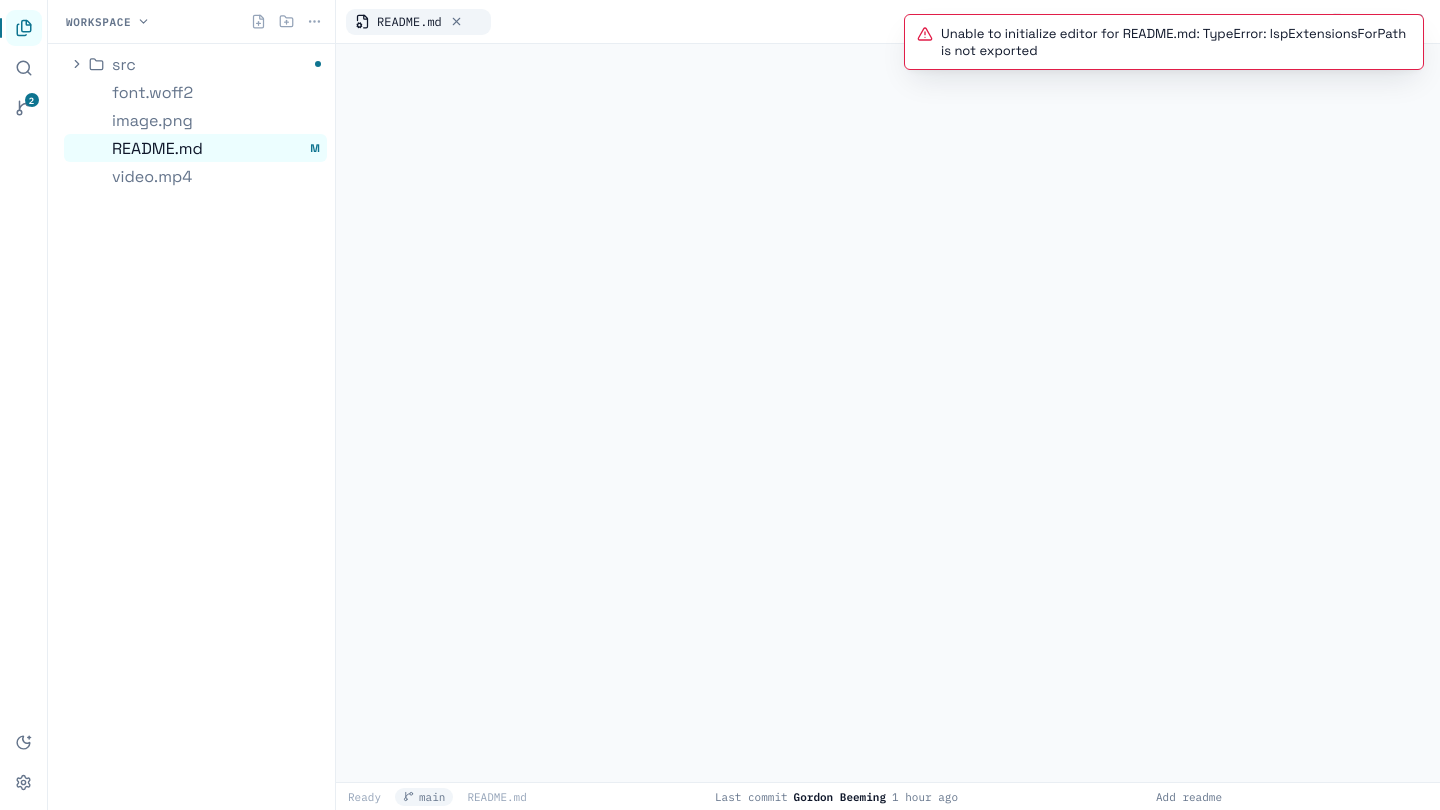
Test case: App shell interactions › falls back to a monogram avatar when the commit has no author email
Click the text "Last commit" at (751, 796), box x1=715 y1=790 x2=788 y2=804
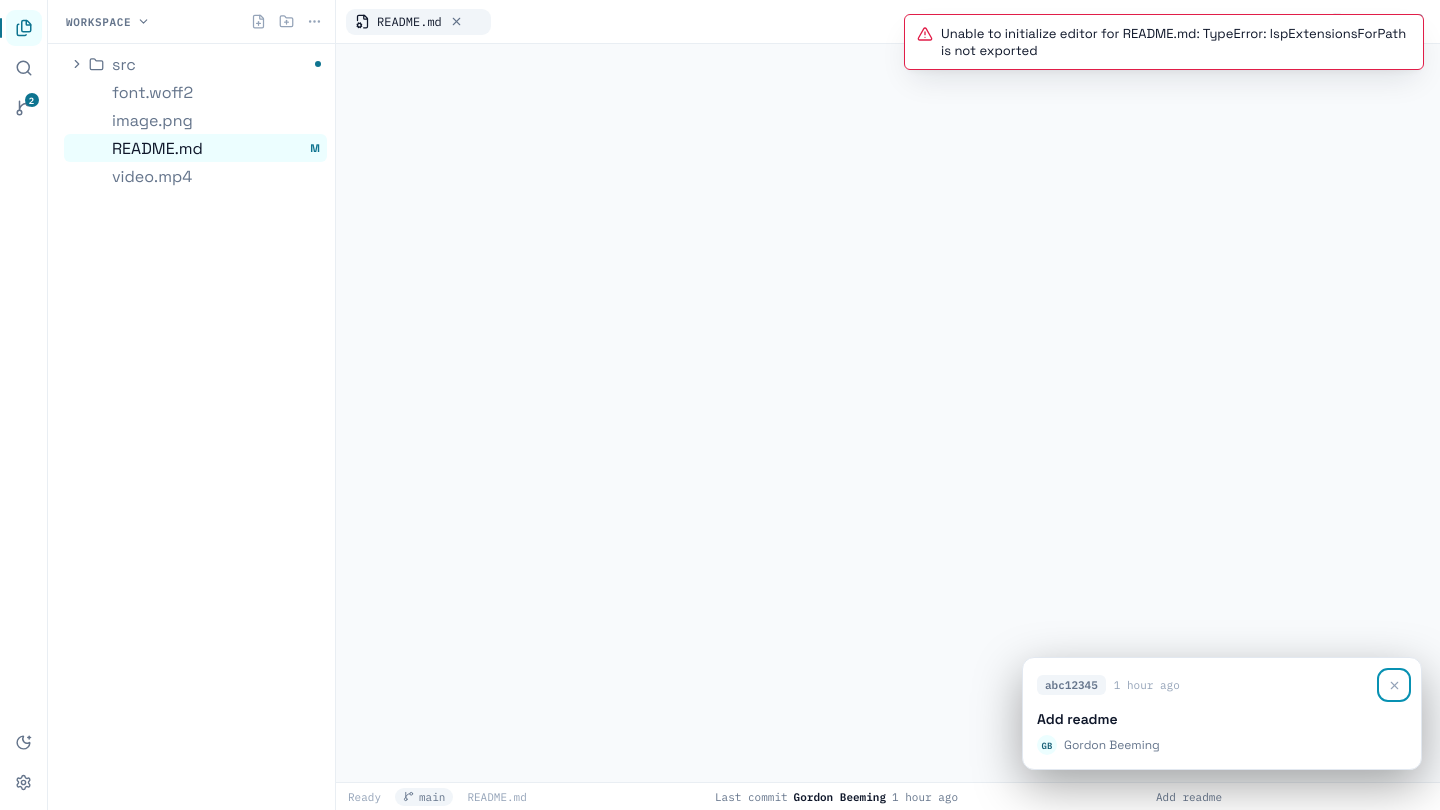
Check: the text "GB" is shown, box x1=1037 y1=735 x2=1057 y2=755
